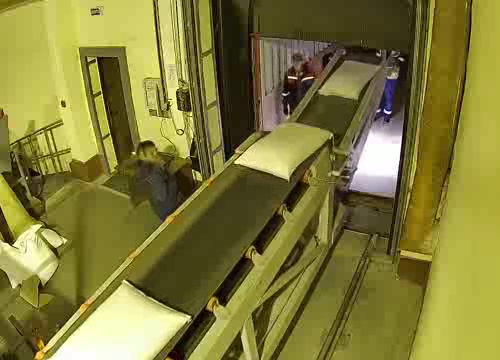bag: (44, 278, 193, 359), (233, 118, 335, 183), (317, 57, 383, 100)
